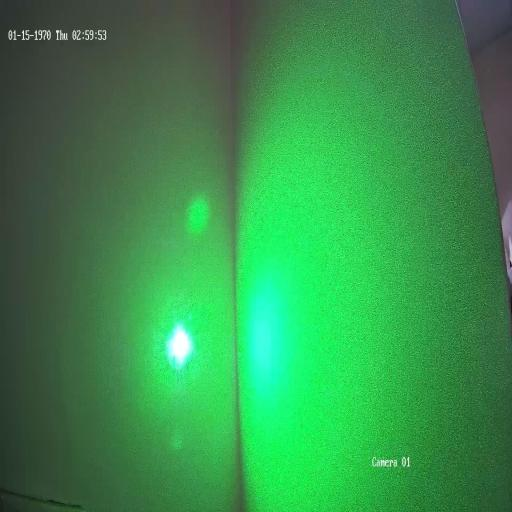laser: (159, 310, 196, 378)
